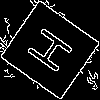H: (25, 25, 83, 82)
